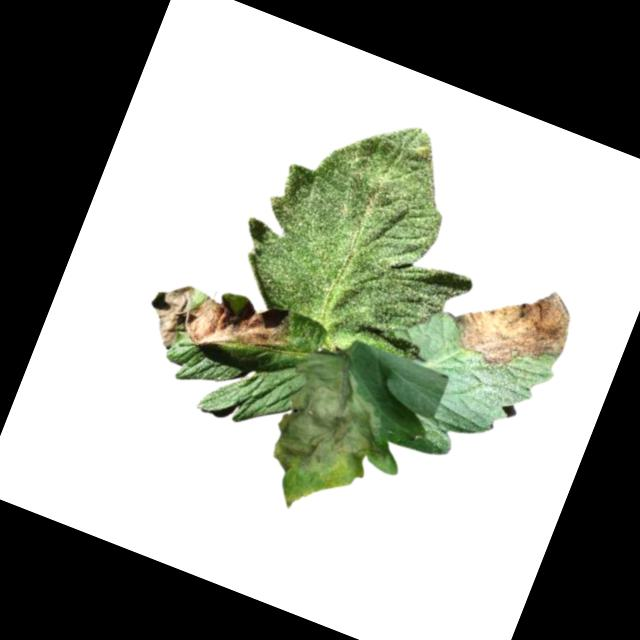Late_blight: (263, 338, 409, 500), (137, 267, 299, 388), (442, 260, 582, 390)
healthy: (214, 80, 519, 388)
